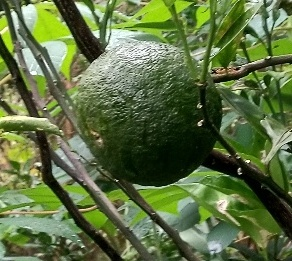Cam: (74, 38, 224, 188)
